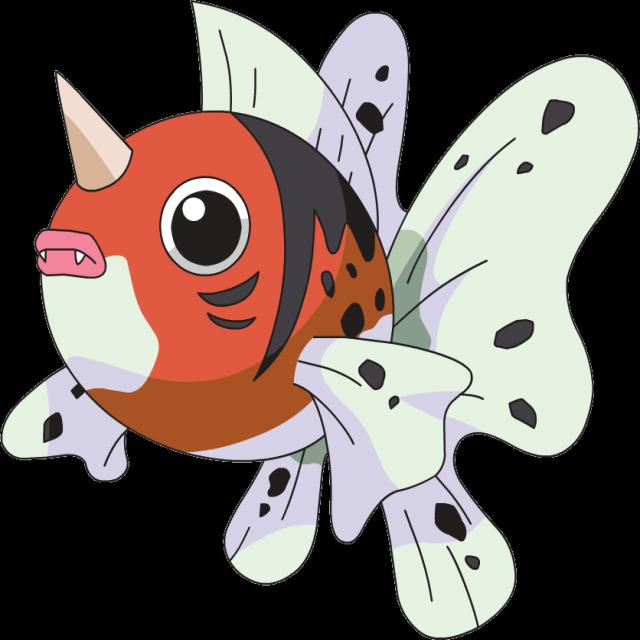Seaking: (22, 50, 497, 569)
